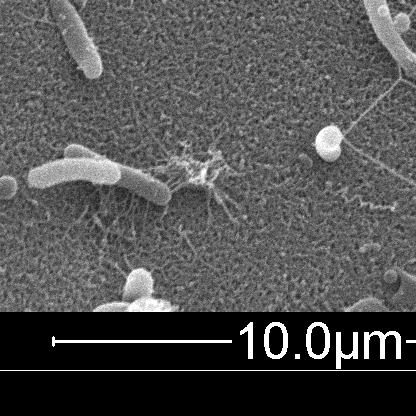cell2cell: (340, 64, 403, 137), (399, 69, 416, 108), (399, 0, 416, 21)
cell2surface: (344, 144, 416, 249)
filament: (360, 0, 416, 92)
regular: (67, 146, 172, 205), (51, 0, 103, 81), (28, 160, 117, 187), (315, 124, 342, 158), (97, 299, 180, 310), (128, 267, 151, 299)
